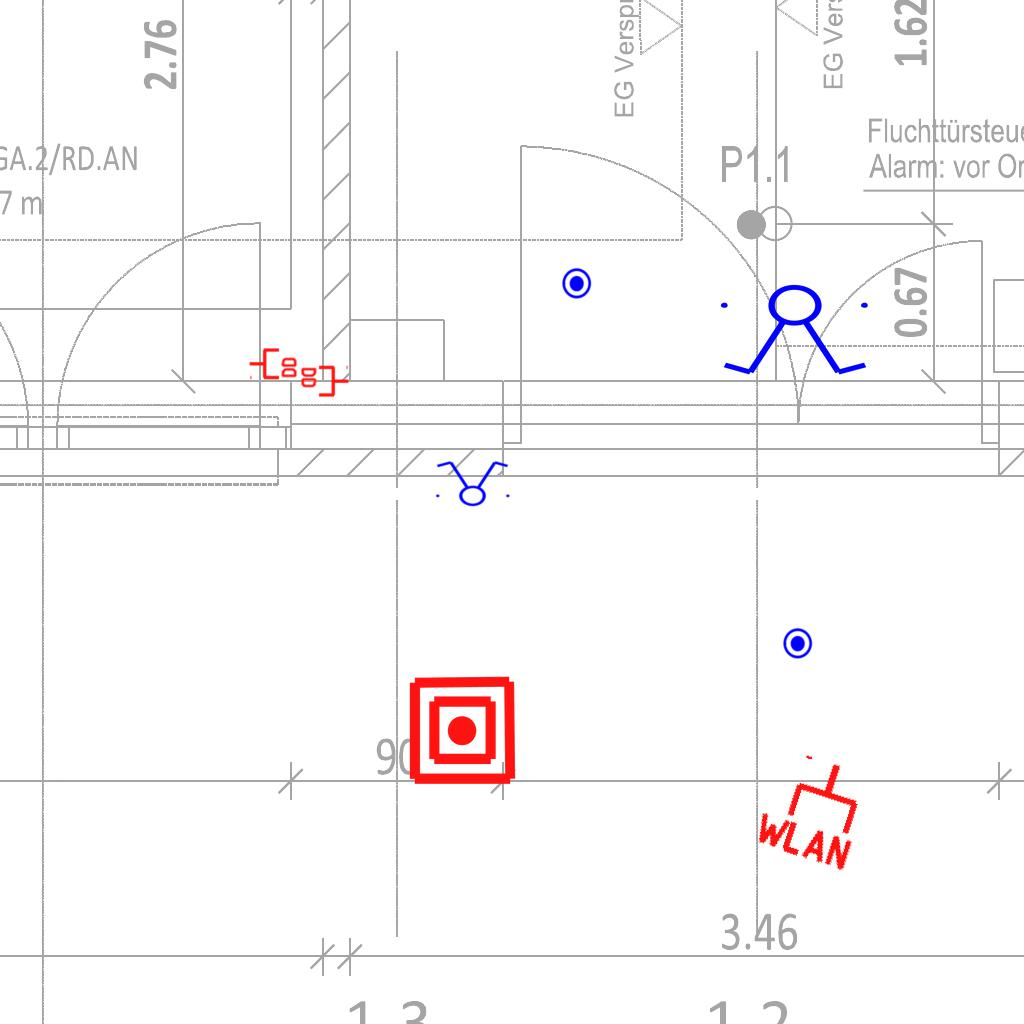Datenanschluss_zweifach: (299, 365, 350, 399), (248, 346, 299, 380)
NAM-Nichtautomatischer_Melder: (406, 674, 519, 787)
Serienschalter: (712, 283, 880, 379), (430, 459, 514, 507)
Taster: (559, 267, 592, 300), (780, 627, 813, 660)
WLAN: (747, 742, 880, 874)
